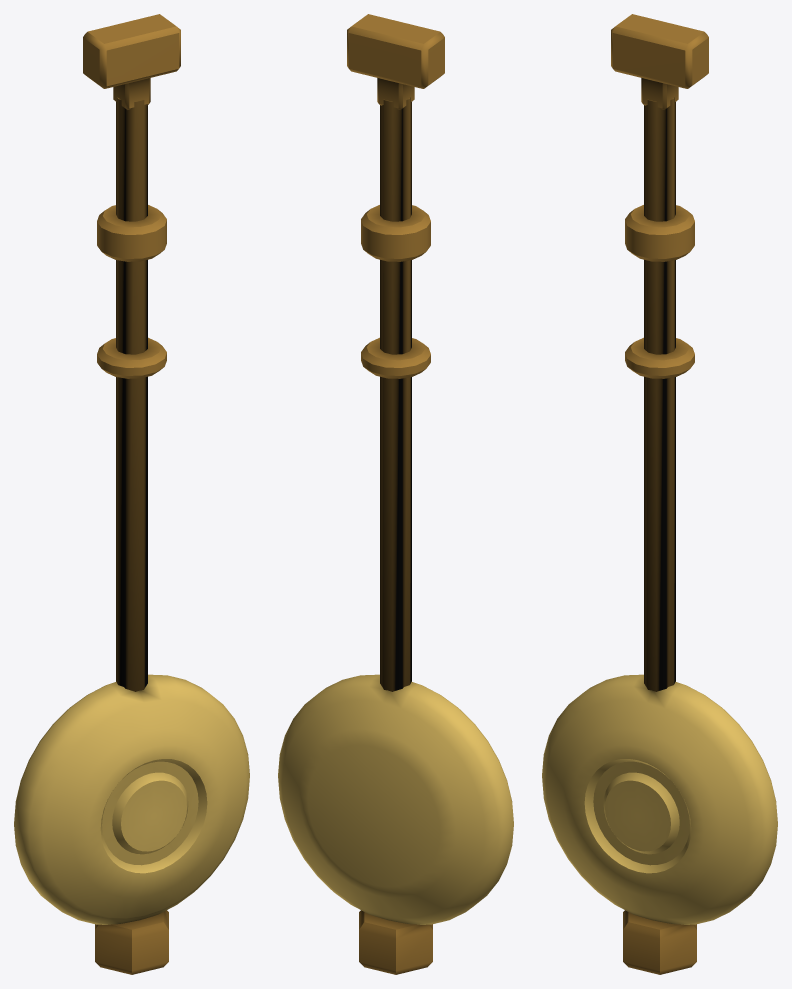
File: pendulum_clock.glb
3 views of the same model, side by side, from view 1: azimuth 30°, elevation 25°; view 2: azimuth 150°, elevation 25°; view 3: azimuth 330°, elevation 25° (orthographic).
Parts seen in each view (by area): view 1: Pendulum_Bob, Pendulum_Rod; view 2: Pendulum_Bob, Pendulum_Rod; view 3: Pendulum_Bob, Pendulum_Rod.
Boxes of the visible parts, x1,y1,x2,y2 form: Pendulum_Bob: (14, 674, 249, 924); Pendulum_Rod: (83, 14, 180, 974); Pendulum_Bob: (278, 674, 513, 924); Pendulum_Rod: (347, 14, 444, 974); Pendulum_Bob: (542, 674, 777, 924); Pendulum_Rod: (611, 14, 708, 974).
Bounding box in the file's own units: 0.018 × 0.07 × 0.006.
